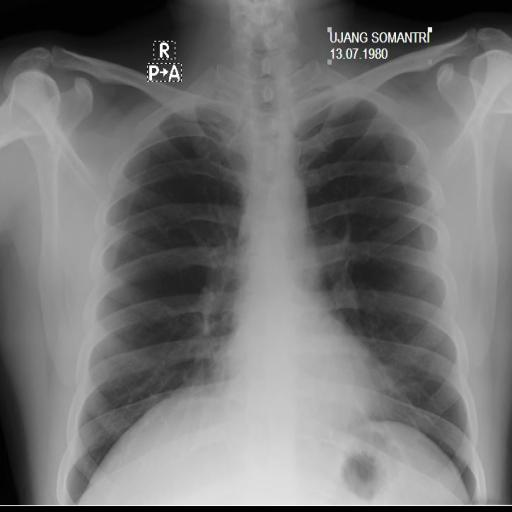normal: (53, 52, 487, 506)
